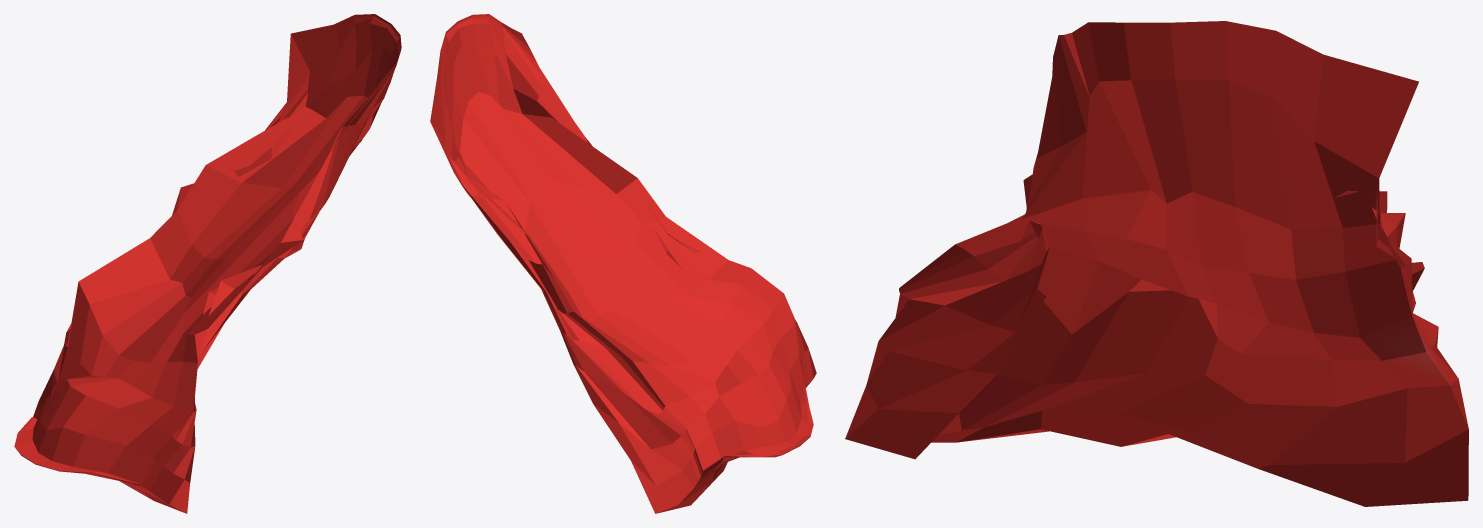
File: Petal1_9.glb
3 views of the same model, side by side, from view 1: azimuth 30°, elevation 25°; view 2: azimuth 150°, elevation 25°; view 3: azimuth 270°, elevation 25° (orthographic). The views are drawn at different scales.
Parts seen in each view (by area): view 1: Cube.001; view 2: Cube.001; view 3: Cube.001.
Part boxes in pixels (bbox=[...]): Cube.001: bbox=[14, 14, 401, 513]; Cube.001: bbox=[430, 14, 816, 513]; Cube.001: bbox=[845, 21, 1468, 506].
Size of the model in its own units: 20.28 by 21.06 by 15.68.
